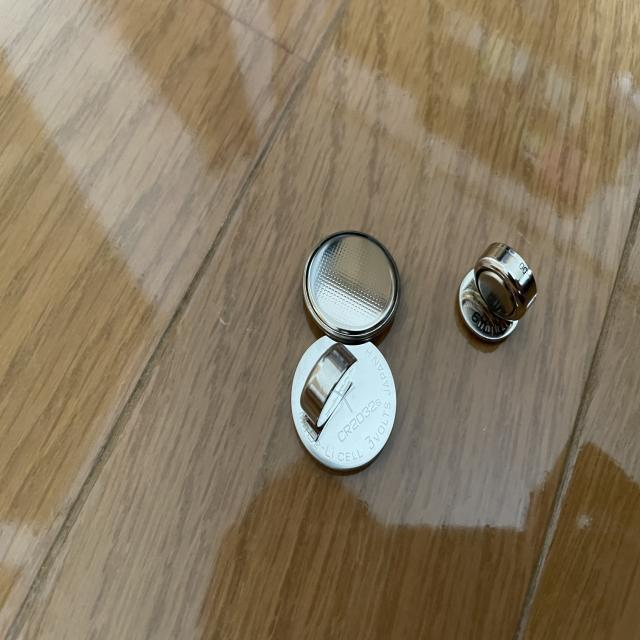COIN: (289, 333, 397, 476), (301, 229, 403, 342), (473, 240, 541, 324), (298, 342, 357, 430), (456, 267, 521, 342)
